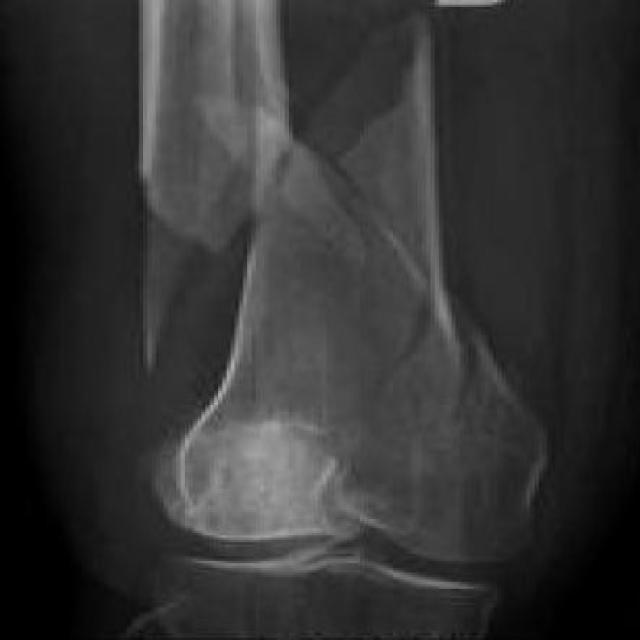comminuted: (204, 80, 352, 249)
